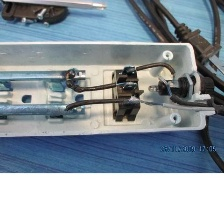three_eye_plug: (0, 32, 220, 145)
